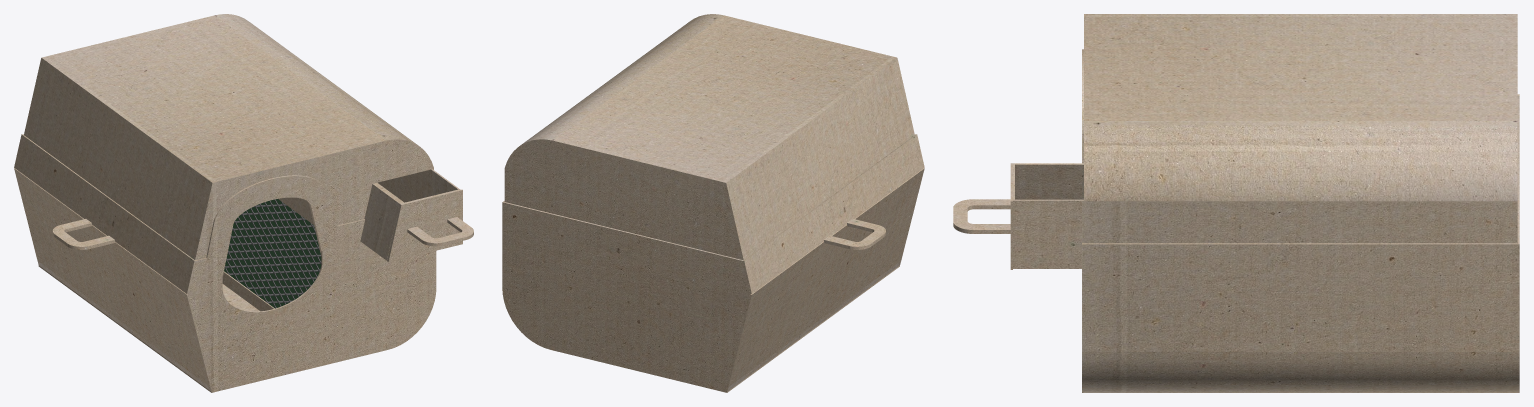
The model's file is AreneroGato.gltf.
The picture shows the model from 3 angles, left to right: view 1: azimuth 30°, elevation 25°; view 2: azimuth 150°, elevation 25°; view 3: azimuth 270°, elevation 25°; orthographic projection. The views are drawn at different scales.
Visible parts, largest first — view 1: root; view 2: root; view 3: root.
Part boxes in pixels (box(x1,y1,x2,y2)): root: box(14, 14, 473, 392); root: box(502, 14, 924, 392); root: box(953, 14, 1519, 392).
Size of the model in its own units: 0.5786 by 0.406 by 0.7764.
Materials: 2 (2 with a texture image).
